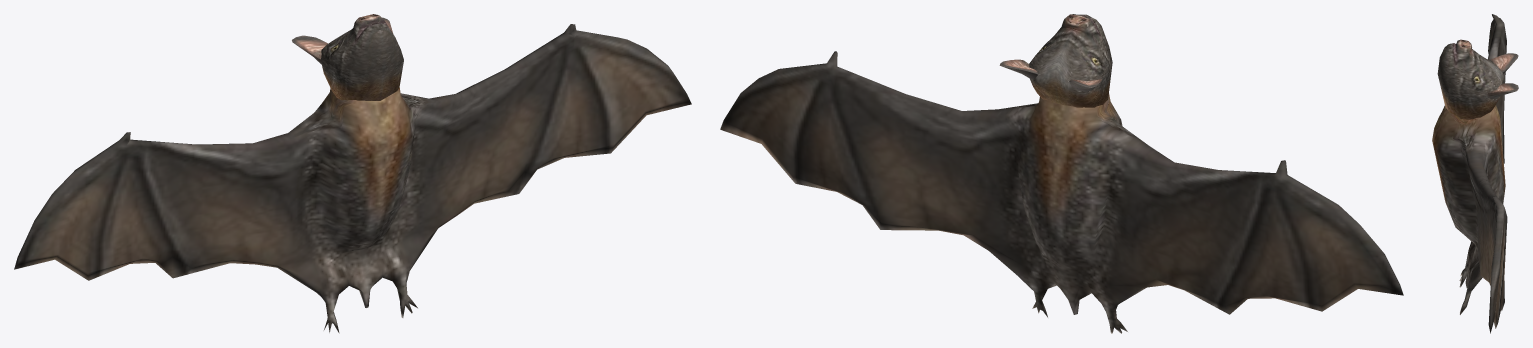
Rendered from bat.glb.
3 renders of one model, left to right at view 1: azimuth 30°, elevation 25°; view 2: azimuth 150°, elevation 25°; view 3: azimuth 270°, elevation 25°, orthographic. The views are drawn at different scales.
Visible parts, largest first — view 1: Object; view 2: Object; view 3: Object.
Part boxes in pixels (x1,y1,x2,y2): Object: (14, 14, 691, 333); Object: (720, 14, 1403, 333); Object: (1432, 14, 1518, 333).
Bounding box in the file's own units: 24.12 × 10.47 × 3.19.
Materials: 1 (1 with a texture image).
